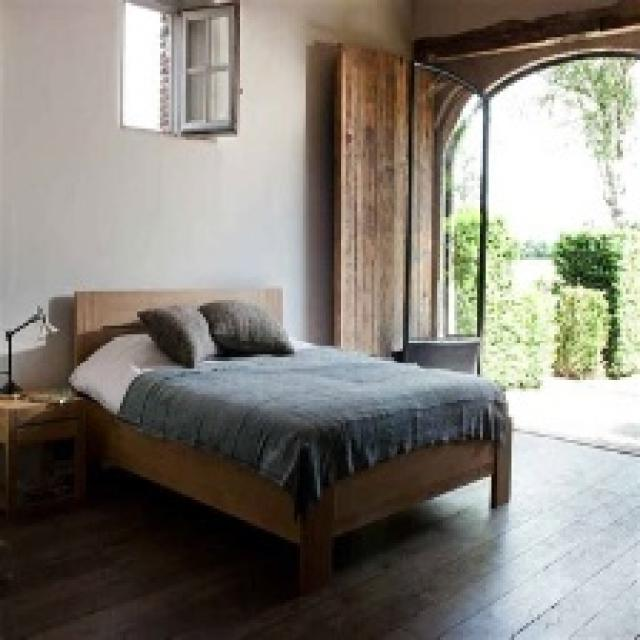Bed: (69, 286, 512, 591)
